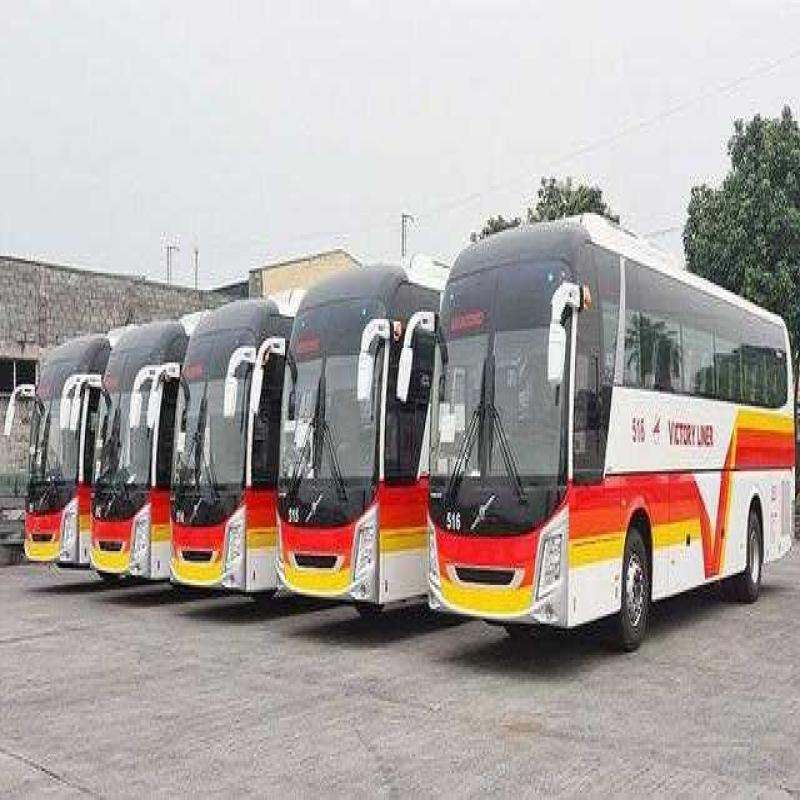bus: (416, 213, 800, 676), (288, 263, 420, 649), (165, 272, 282, 628), (16, 294, 90, 606), (92, 296, 163, 588)
